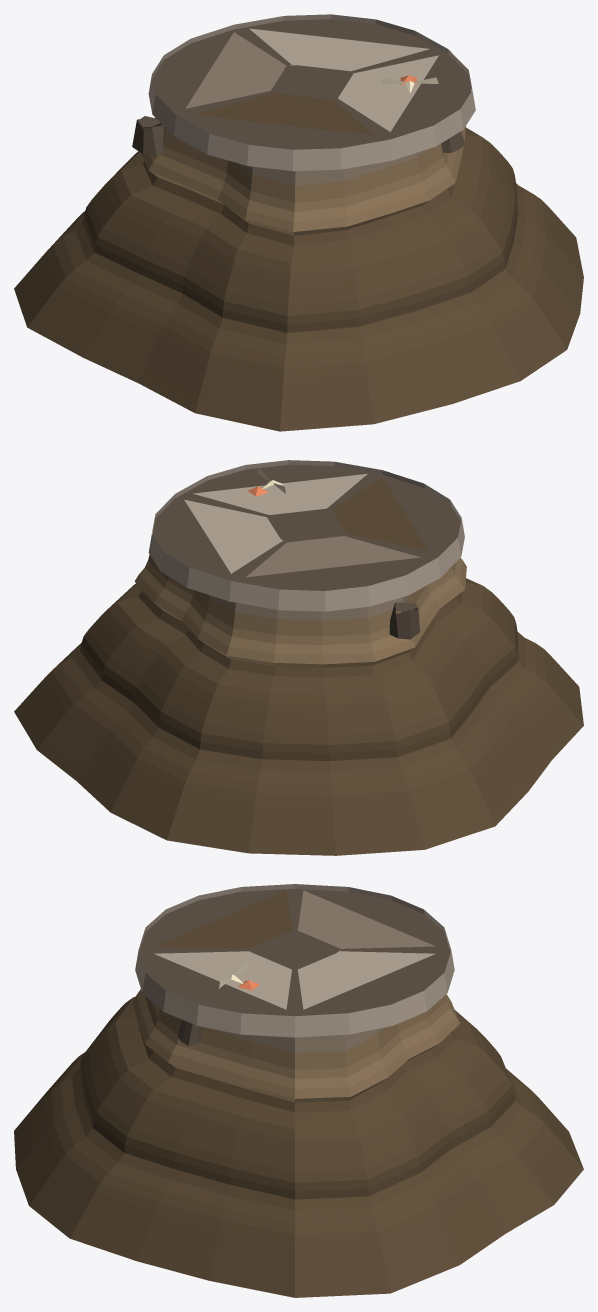
The model's file is SeaStackShort.fbx.
The picture shows the model from 3 angles, top to bottom: view 1: azimuth 30°, elevation 25°; view 2: azimuth 150°, elevation 25°; view 3: azimuth 270°, elevation 25°; orthographic projection. The views are drawn at different scales.
Visible parts, largest first — view 1: SeaStackShort; view 2: SeaStackShort; view 3: SeaStackShort.
Part boxes in pixels (<box>): SeaStackShort: <box>14,14,583,431</box>; SeaStackShort: <box>14,460,583,855</box>; SeaStackShort: <box>14,884,583,1297</box>.
Bounding box in the file's own units: 1320 × 577 × 1296.
